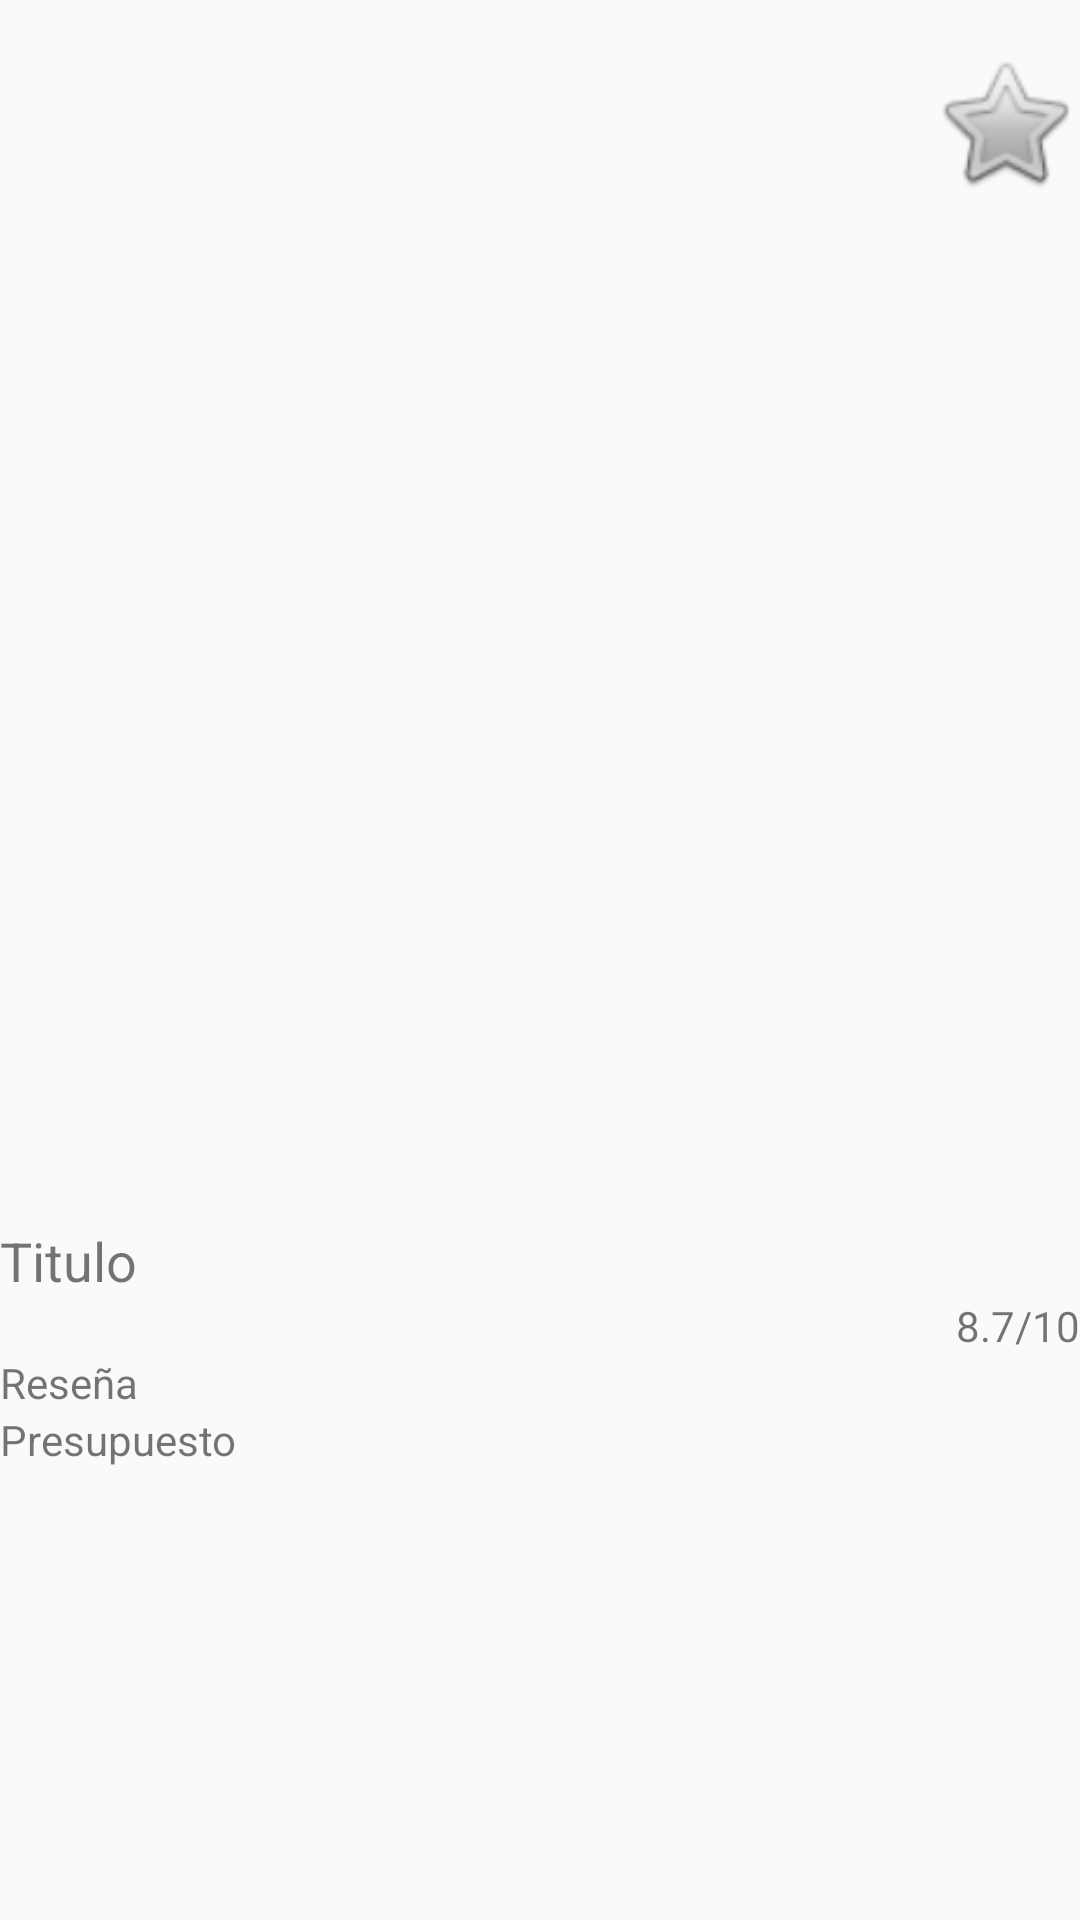

Icon bounding boxes for this 1080 × 1920 phone screenshot, format (x1, y1, x2, y2):
star off: (944, 63, 1069, 185)
